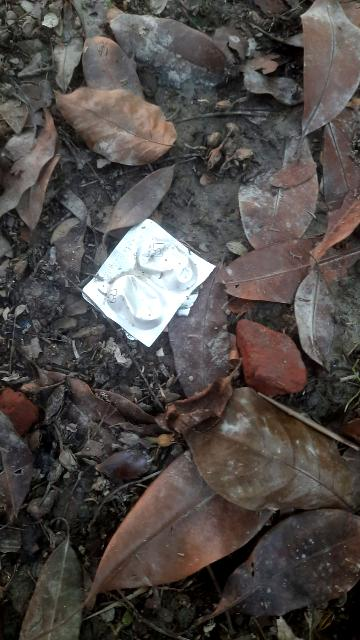medicine: (75, 225, 229, 347)
